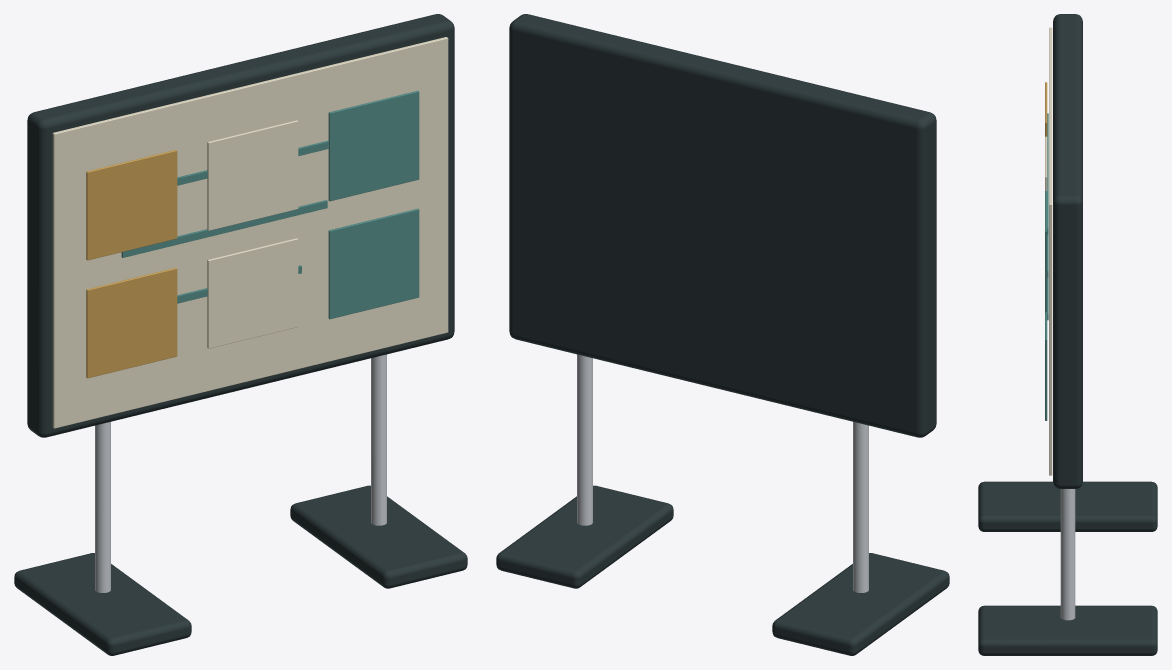
The model's file is notes.glb.
3 renders of one model, left to right at view 1: azimuth 30°, elevation 25°; view 2: azimuth 150°, elevation 25°; view 3: azimuth 270°, elevation 25°, orthographic. The views are drawn at different scales.
Parts seen in each view (by area): view 1: notes; view 2: notes; view 3: notes.
Boxes of the visible parts, x1,y1,x2,y2 form: notes: [14, 14, 467, 655]; notes: [496, 14, 949, 655]; notes: [978, 14, 1157, 655].
Bounding box in the file's own units: 1.48 × 1.74 × 0.6.
